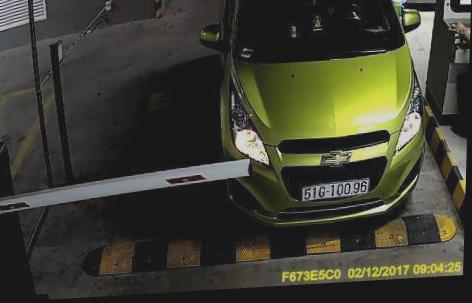License_Plate: (300, 178, 371, 202)
